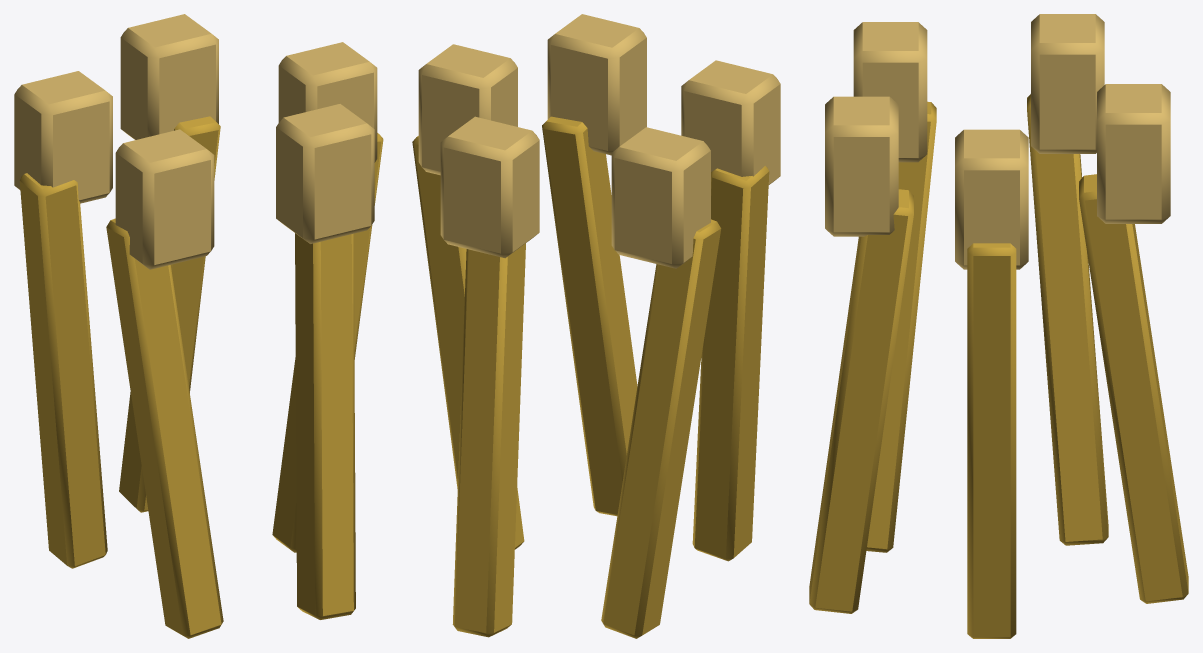
File: crop.glb
3 views of the same model, side by side, from view 1: azimuth 30°, elevation 25°; view 2: azimuth 150°, elevation 25°; view 3: azimuth 270°, elevation 25° (orthographic). The views are drawn at different scales.
Parts seen in each view (by area): view 1: crop; view 2: crop; view 3: crop.
Part boxes in pixels (x1,y1,x2,y2): crop: (14, 14, 383, 638); crop: (412, 14, 780, 638); crop: (809, 14, 1188, 638).
Bounding box in the file's own units: 0.3104 × 0.4511 × 0.3089.
